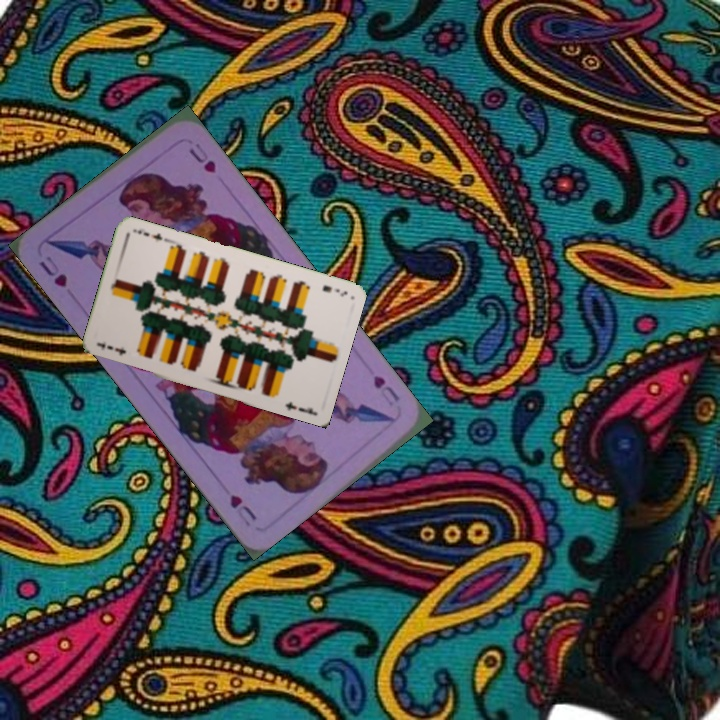E7: (318, 281, 350, 300), (102, 341, 128, 358)
HU: (35, 251, 70, 290), (369, 371, 403, 409)
